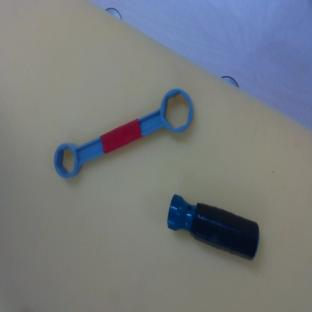part_2_bad: (162, 191, 265, 261)
part_3_good: (45, 84, 201, 181)
